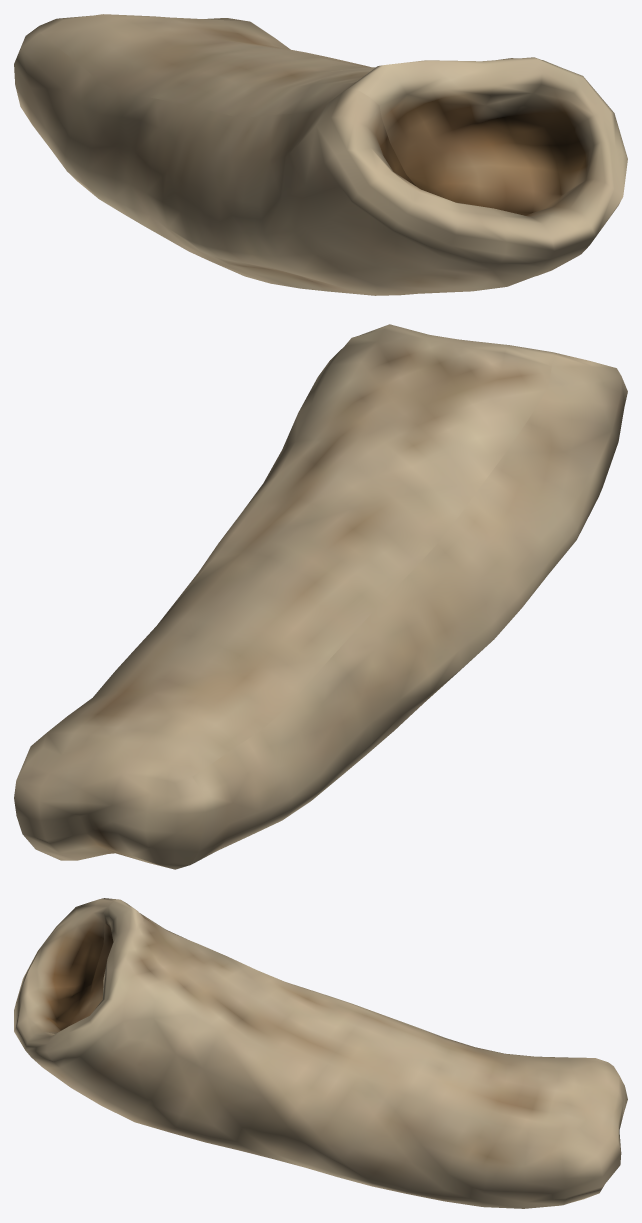
Rendered from Lower_Incisor3.glb.
3 views of the same model, one above another, from view 1: azimuth 30°, elevation 25°; view 2: azimuth 150°, elevation 25°; view 3: azimuth 270°, elevation 25° (orthographic). The views are drawn at different scales.
Parts seen in each view (by area): view 1: Group19789_Mesh.005; view 2: Group19789_Mesh.005; view 3: Group19789_Mesh.005.
Boxes of the visible parts, bbox=[...] form: Group19789_Mesh.005: bbox=[14, 14, 627, 295]; Group19789_Mesh.005: bbox=[14, 324, 627, 869]; Group19789_Mesh.005: bbox=[14, 898, 627, 1208].
Bounding box in the file's own units: 0.0134 × 0.0145 × 0.0331.
Materials: 1 (1 with a texture image).
